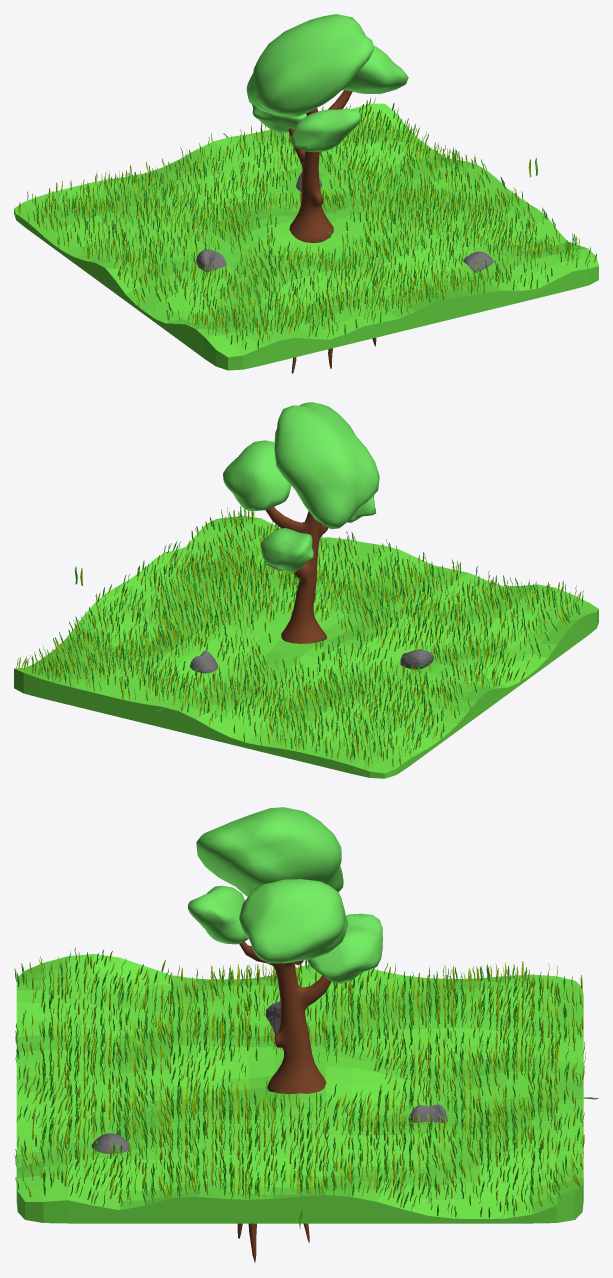
Rendered from arbol chico.fbx.
3 renders of one model, top to bottom at view 1: azimuth 30°, elevation 25°; view 2: azimuth 150°, elevation 25°; view 3: azimuth 270°, elevation 25°, orthographic. The views are drawn at different scales.
Parts seen in each view (by area): view 1: tierra, Icosphere.005, tronco.002, Icosphere.007, Icosphere.003, Icosphere.006, rock; view 2: tierra, Icosphere.005, Icosphere.003, tronco.002, Icosphere.006, rock; view 3: tierra, Icosphere.005, Icosphere.003, tronco.002, Icosphere.006, Icosphere.007.
Part boxes in pixels (x1=…): tierra: x1=14, y1=103, x2=598, y2=370; Icosphere.005: x1=246, y1=14, x2=373, y2=116; tronco.002: x1=288, y1=90, x2=376, y2=373; Icosphere.007: x1=290, y1=108, x2=361, y2=152; Icosphere.003: x1=342, y1=45, x2=408, y2=93; Icosphere.006: x1=251, y1=104, x2=306, y2=132; rock: x1=196, y1=249, x2=227, y2=272; tierra: x1=14, y1=516, x2=598, y2=778; Icosphere.005: x1=274, y1=402, x2=379, y2=529; Icosphere.003: x1=223, y1=440, x2=291, y2=510; tronco.002: x1=265, y1=507, x2=328, y2=643; Icosphere.006: x1=260, y1=528, x2=313, y2=572; rock: x1=400, y1=649, x2=433, y2=669; tierra: x1=16, y1=954, x2=583, y2=1223; Icosphere.005: x1=196, y1=807, x2=343, y2=896; Icosphere.003: x1=239, y1=879, x2=347, y2=963; tronco.002: x1=237, y1=941, x2=331, y2=1262; Icosphere.006: x1=307, y1=913, x2=382, y2=983; Icosphere.007: x1=188, y1=885, x2=247, y2=944.
Size of the model in its own units: 5127 by 3883 by 4746.
